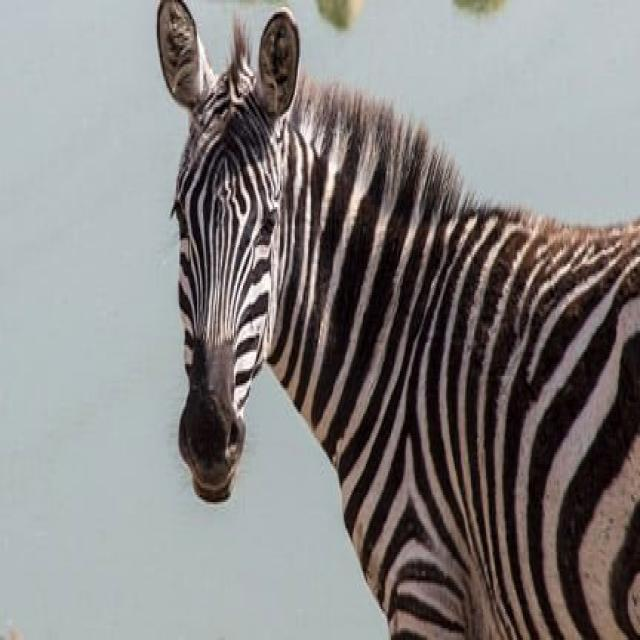zebra: (157, 0, 639, 638)
